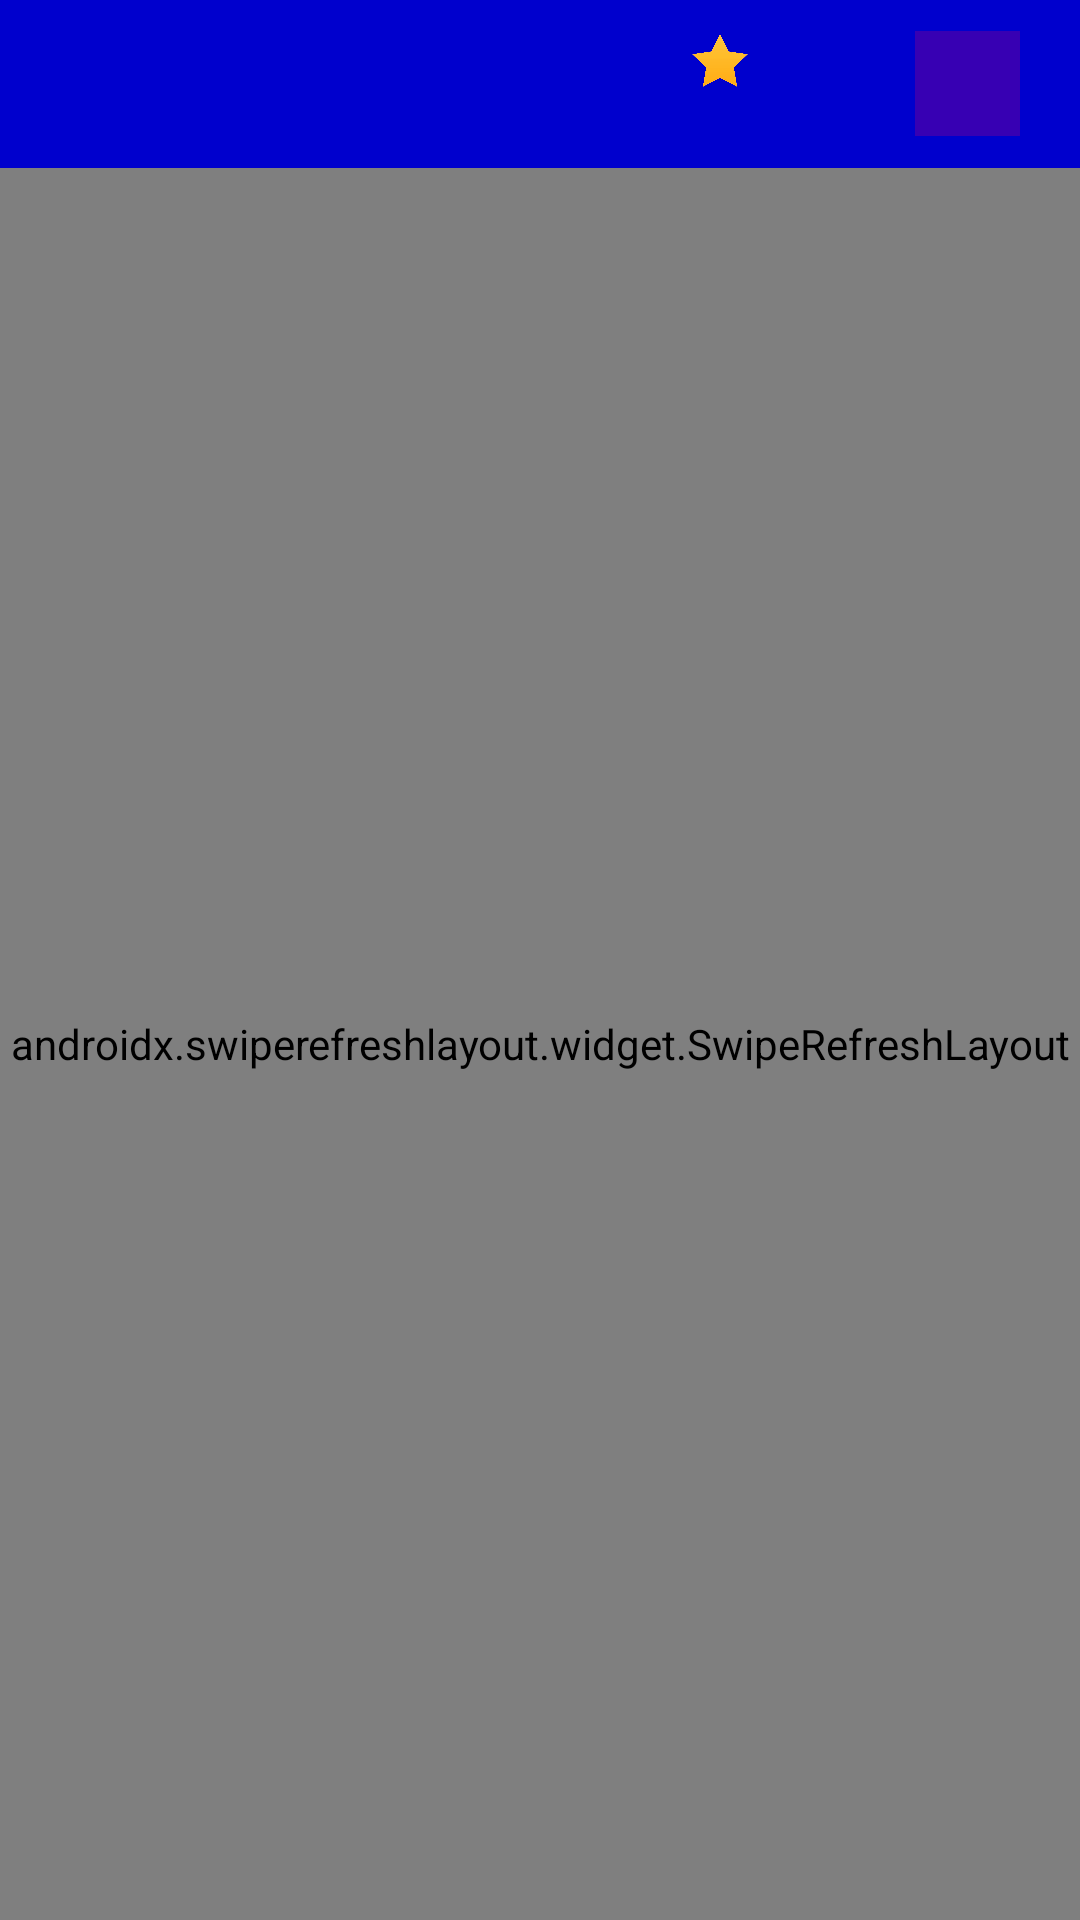

Screen size 1080 × 1920. Icon name, then its center in pixels as (x=x, y=y):
star: (x=720, y=61)
